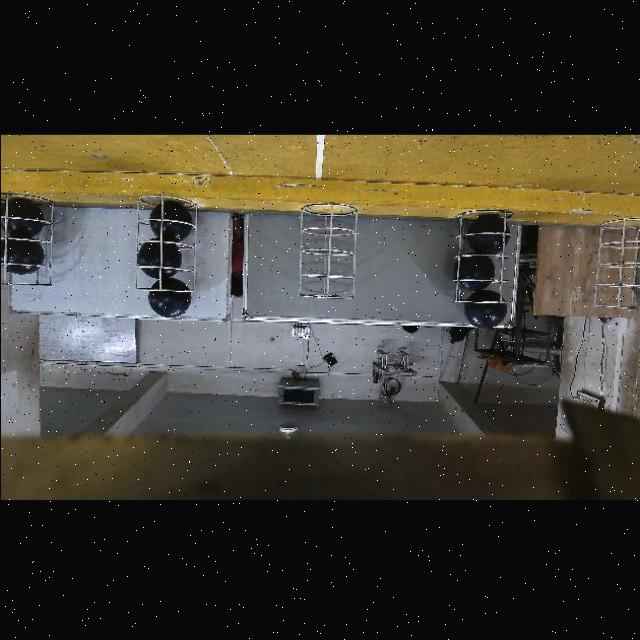P: (0, 196, 41, 237), (149, 277, 189, 317), (461, 215, 502, 253), (466, 287, 504, 326), (0, 239, 39, 276), (153, 205, 193, 241), (451, 256, 492, 291), (140, 241, 177, 278)
S: (449, 202, 523, 306), (294, 196, 360, 308), (130, 190, 196, 288), (0, 198, 56, 286), (590, 220, 640, 316)
